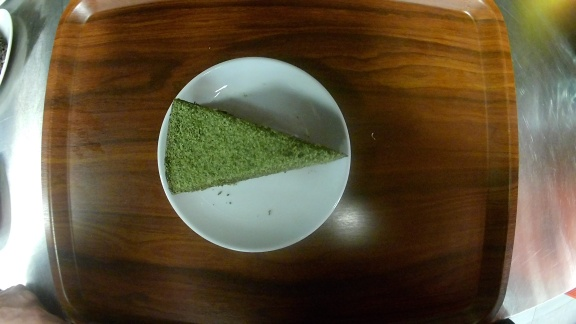fistiklipasta: (156, 56, 353, 248)
